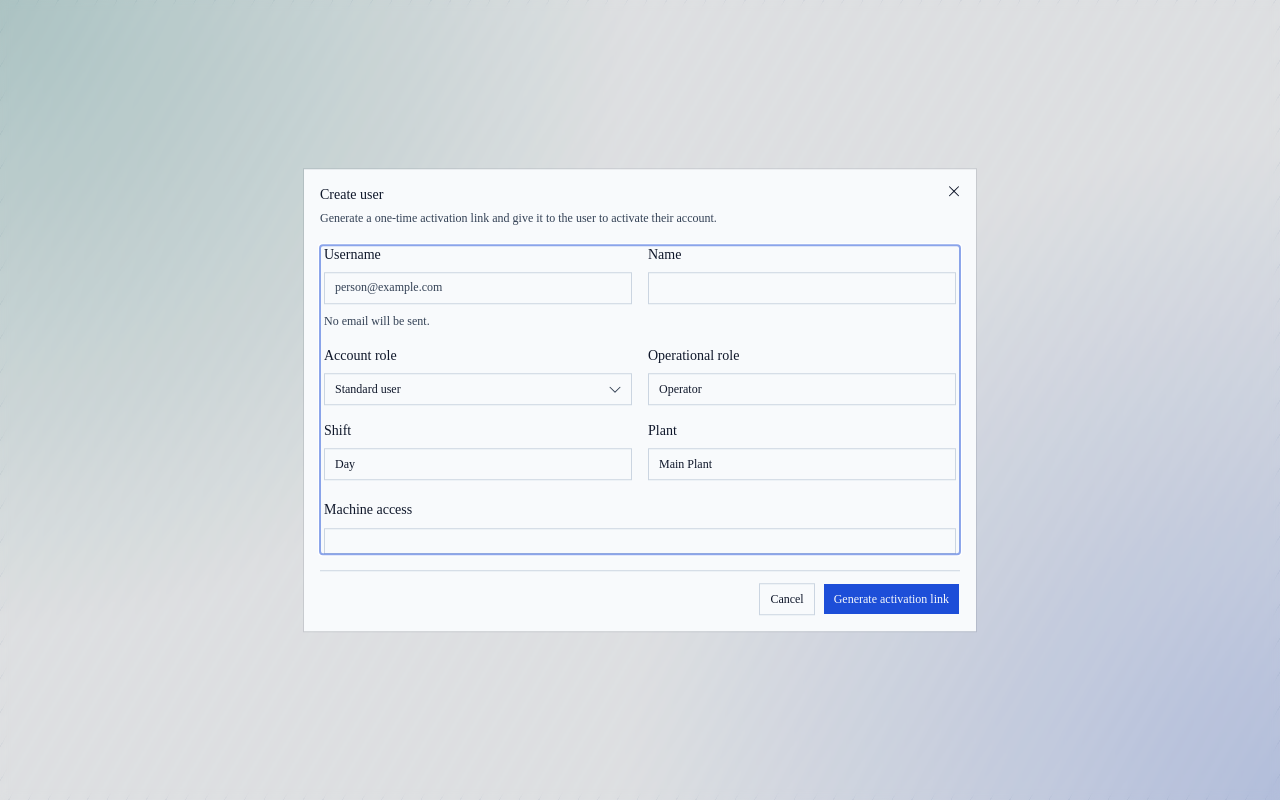
it: admin user lifecycle › cannot dismiss a pending invitation and lose its one-time result
This screenshot has width=1280, height=800.
Type "pending@example.com" into the field labelled "Username" at [478, 288], box [324,272,632,304]
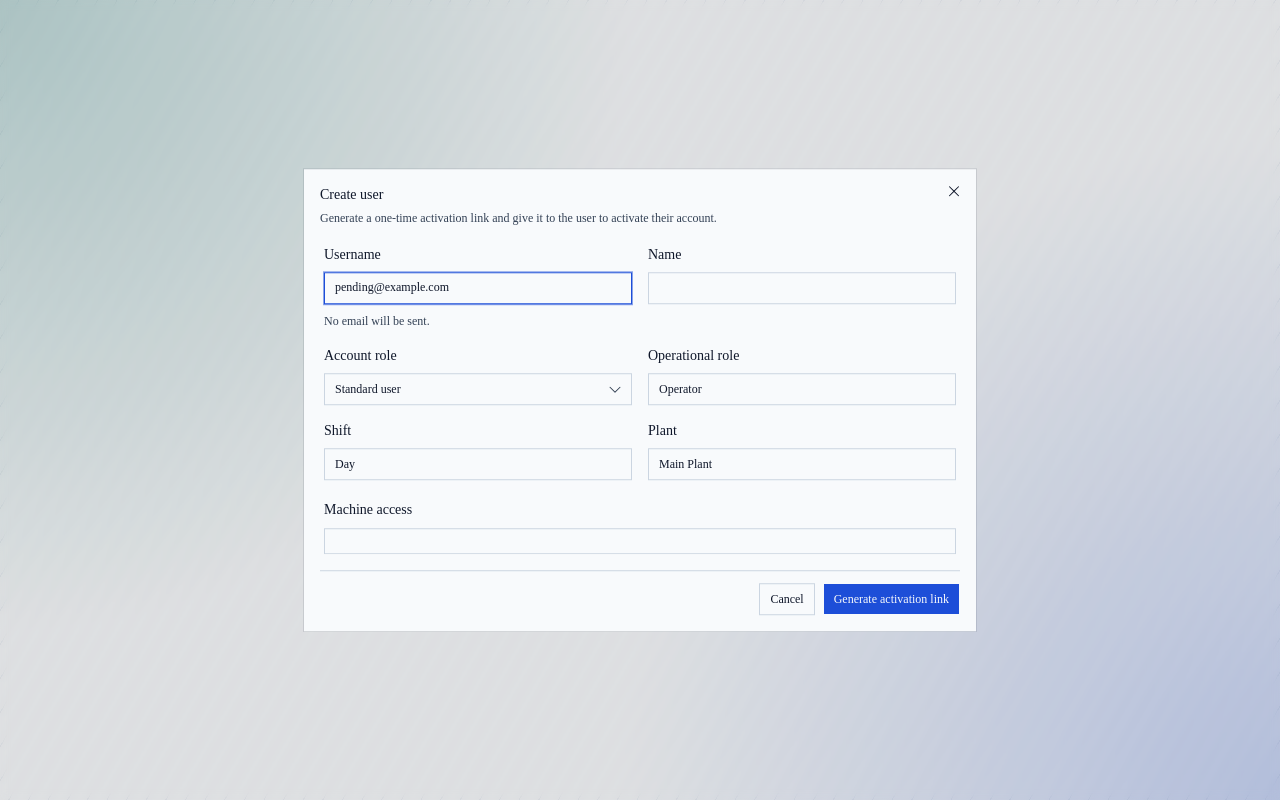
Type "Pending" into the field labelled "Name" at [802, 288], box [648,272,956,304]
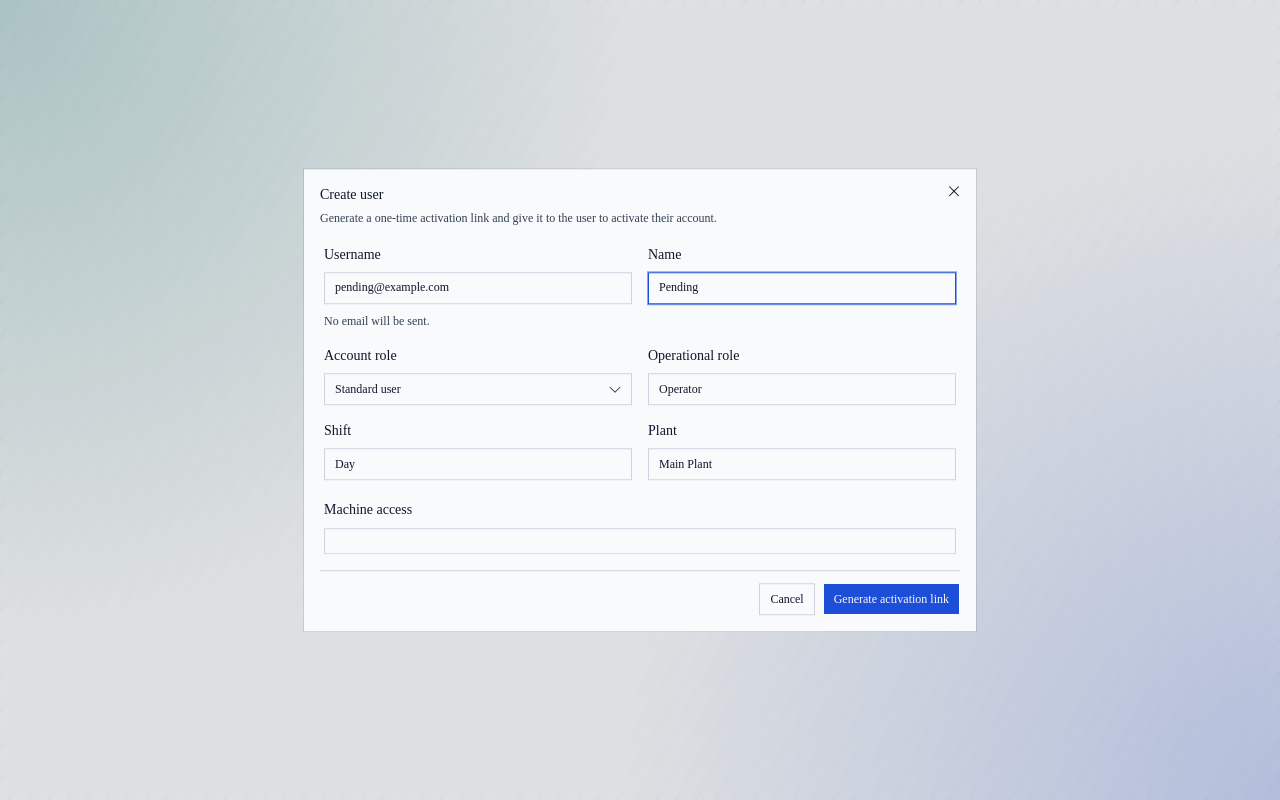
Click the button "Generate activation link" at [891, 599], box [823,583,960,615]
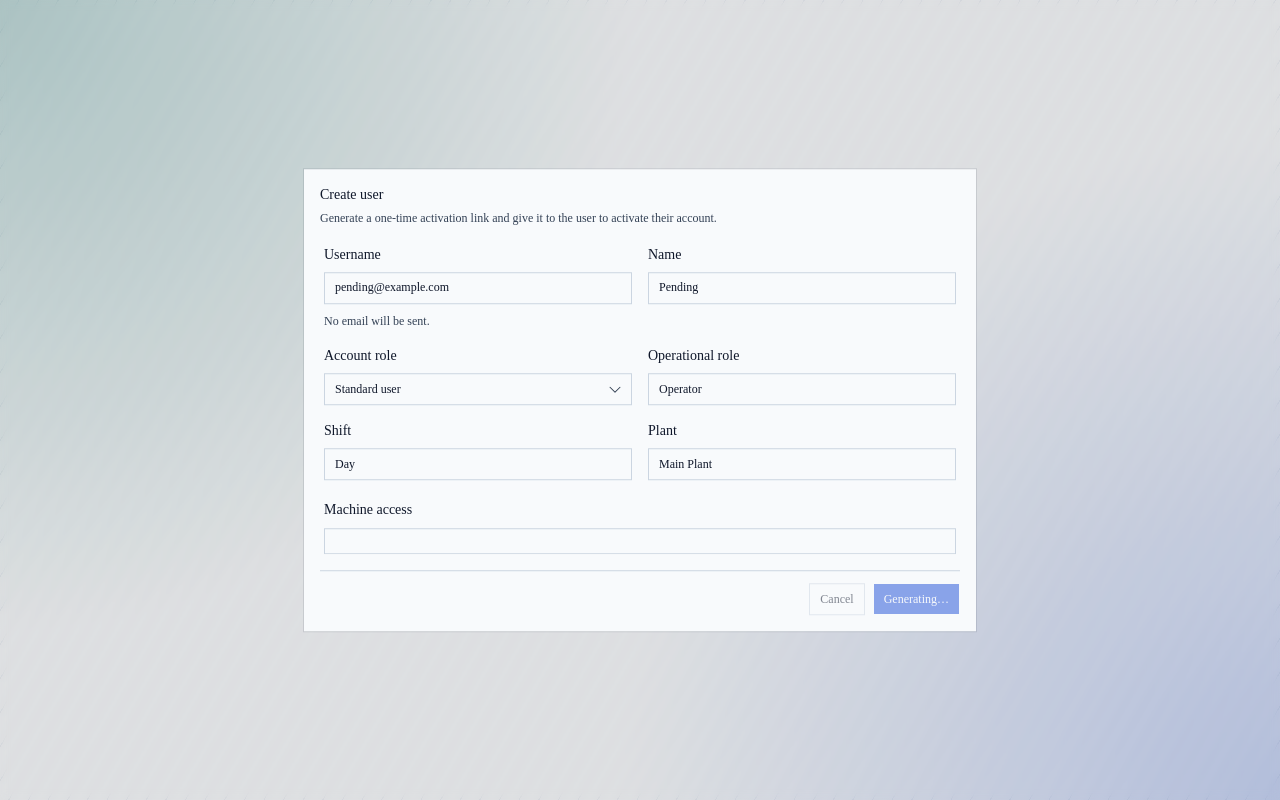
Press Escape
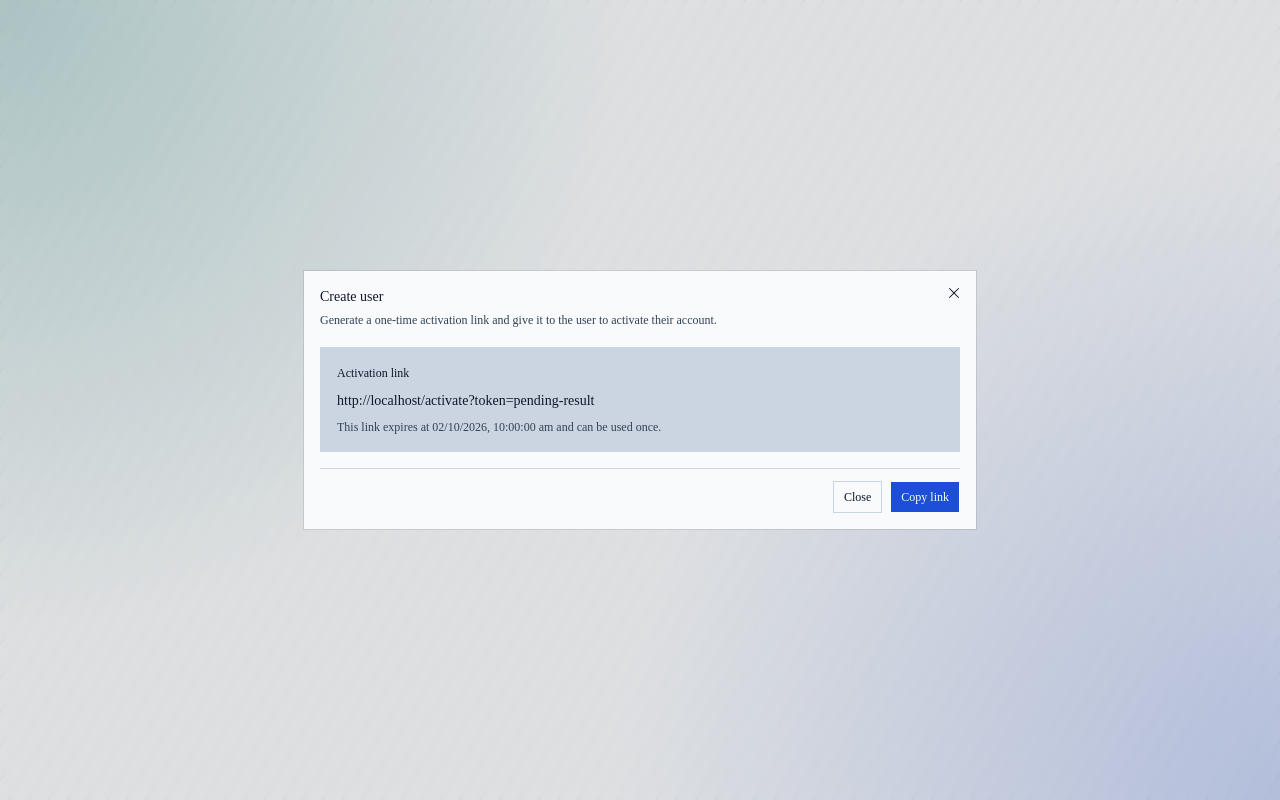
Expected: the text "http://localhost/activate?token=pending-result" is shown, [337,393,594,408]
